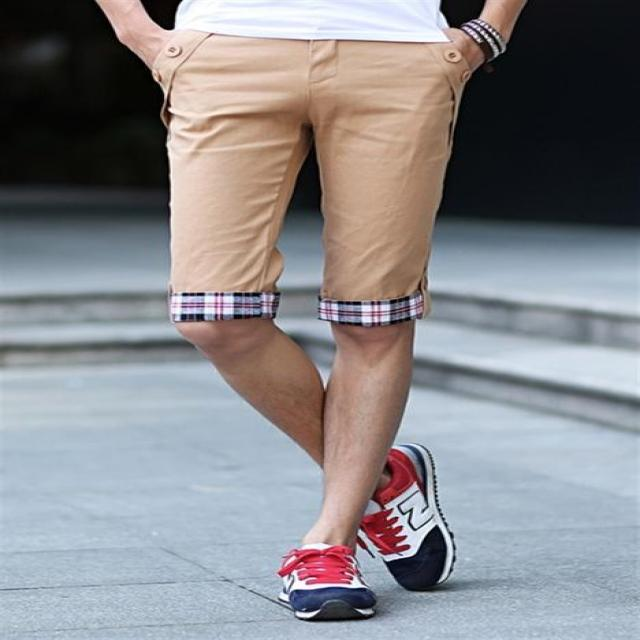shorts: (92, 8, 503, 370)
